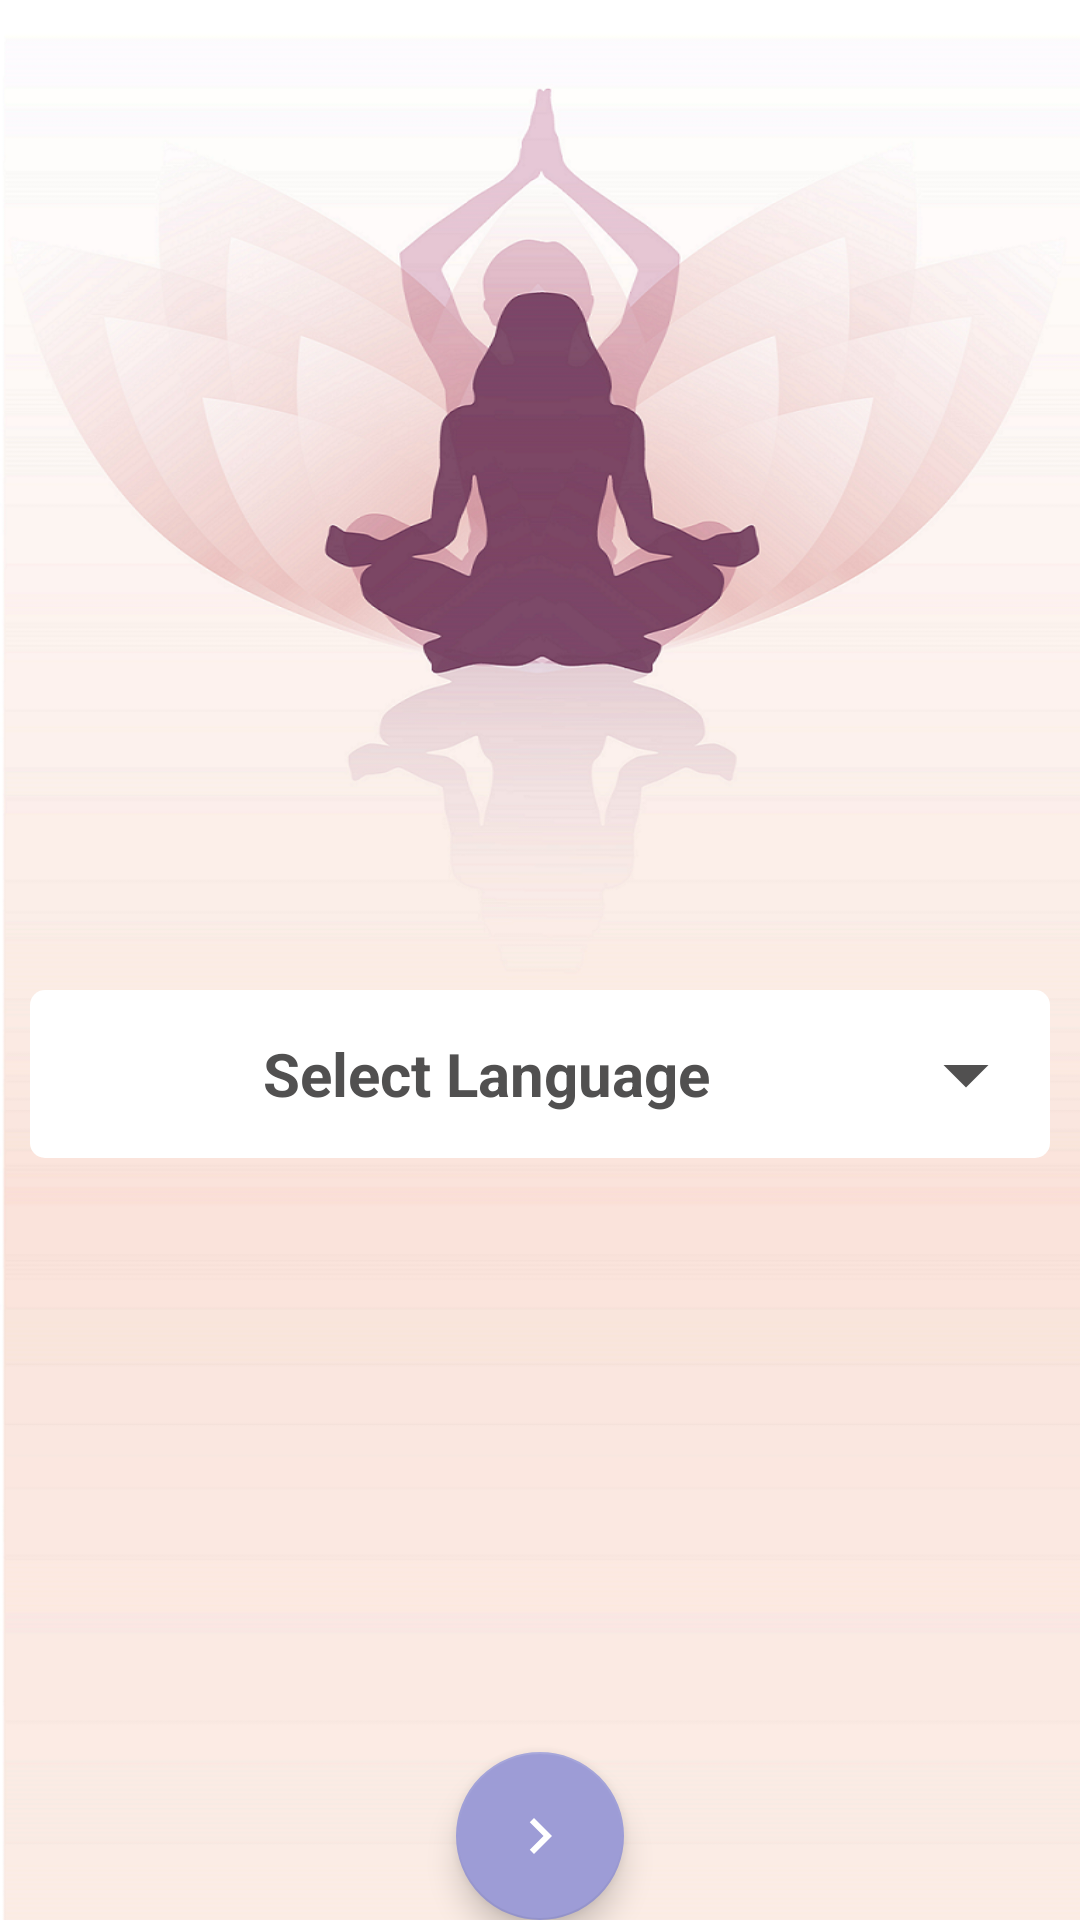

Icon bounding boxes for this 1080*1920 phone screenshot, format (x1, y1, x2, y2):
chevron right: (456, 1752, 624, 1920)
